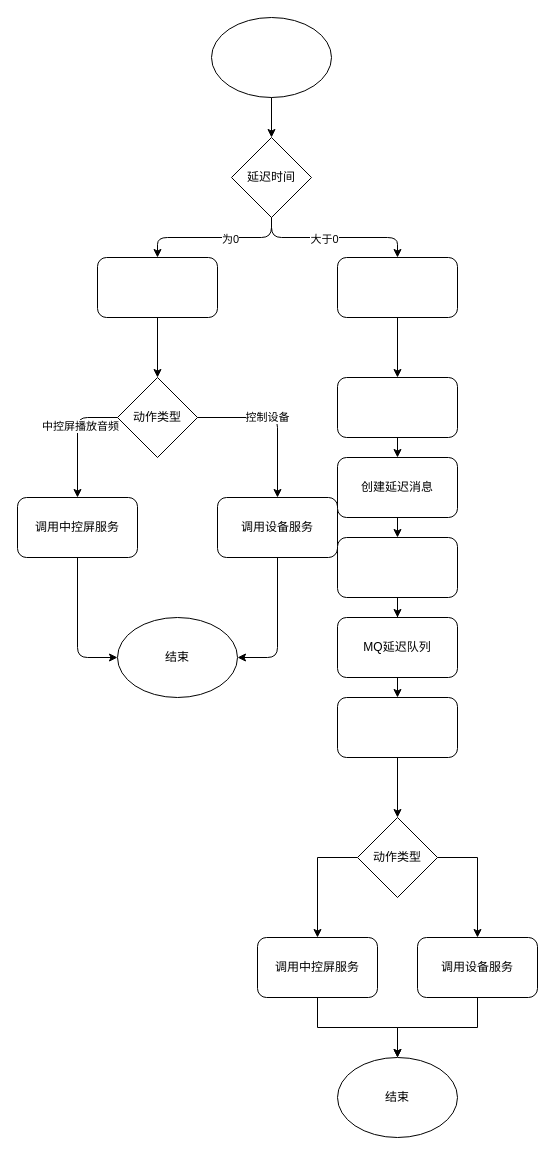
Image size: 555x1155. Some labels were removed from this diagram. Here are the shapes that lost their labels. From the top down, the centre of each, then its label:
point (271, 57): 开始
point (157, 287): 立即执行
point (397, 287): 延迟执行
point (397, 407): 计算延迟时间戳
point (397, 567): 发送到MQ
point (397, 727): MQ消费者
